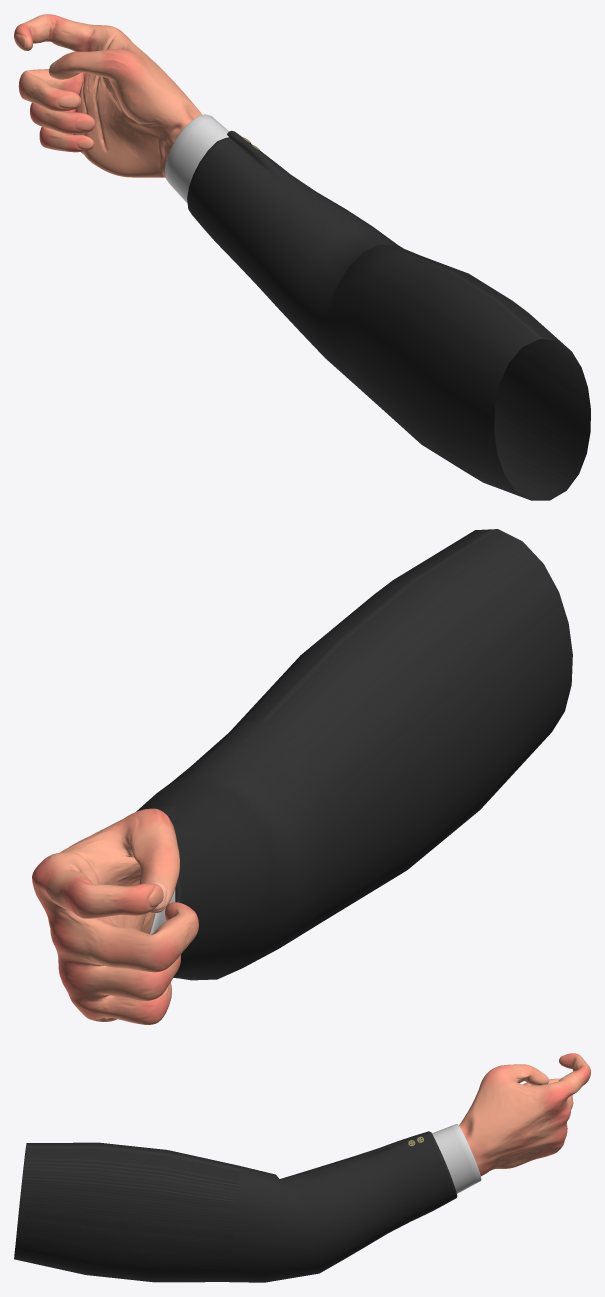
The model's file is Newhand.fbx.
3 views of the same model, one above another, from view 1: azimuth 30°, elevation 25°; view 2: azimuth 150°, elevation 25°; view 3: azimuth 270°, elevation 25° (orthographic). The views are drawn at different scales.
Parts seen in each view (by area): view 1: Sleeve_only.001, Sphere.003; view 2: Sleeve_only.001, Sphere.003; view 3: Sleeve_only.001, Sphere.003.
Part boxes in pixels (<box>): Sleeve_only.001: <box>165,114,590,500</box>; Sphere.003: <box>14,14,202,177</box>; Sleeve_only.001: <box>136,529,572,980</box>; Sphere.003: <box>32,808,198,1024</box>; Sleeve_only.001: <box>14,1124,481,1282</box>; Sphere.003: <box>459,1053,590,1176</box>.
Size of the model in its own units: 292 by 332 by 973.
2 materials, 2 textured.
